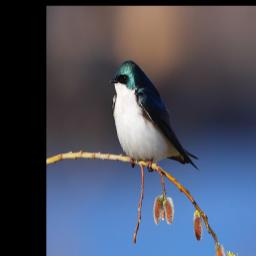Swallow: (108, 59, 200, 170)
